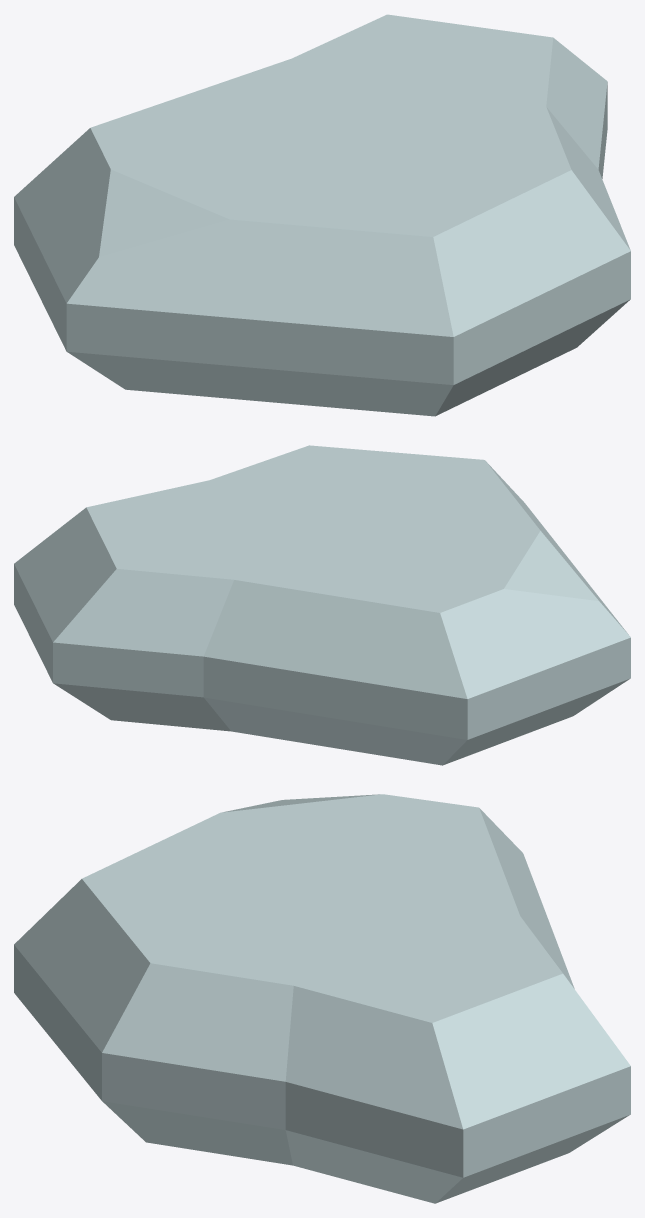
The model's file is stone_largeE.gltf.
3 views of the same model, one above another, from view 1: azimuth 30°, elevation 25°; view 2: azimuth 150°, elevation 25°; view 3: azimuth 270°, elevation 25° (orthographic). The views are drawn at different scales.
Visible parts, largest first — view 1: stone_largeE; view 2: stone_largeE; view 3: stone_largeE.
Boxes of the visible parts, <box> form: stone_largeE: <box>14,14,630,416</box>; stone_largeE: <box>14,445,630,765</box>; stone_largeE: <box>14,794,630,1203</box>.
Size of the model in its own units: 1.1 by 0.2922 by 0.9199.
